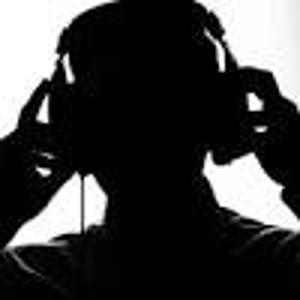Headphones: (47, 1, 252, 177)
